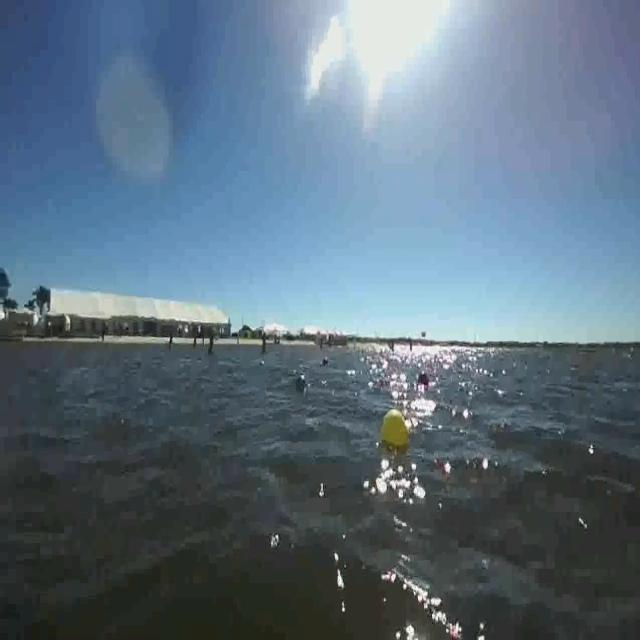yellow-buoy: (380, 408, 409, 449)
